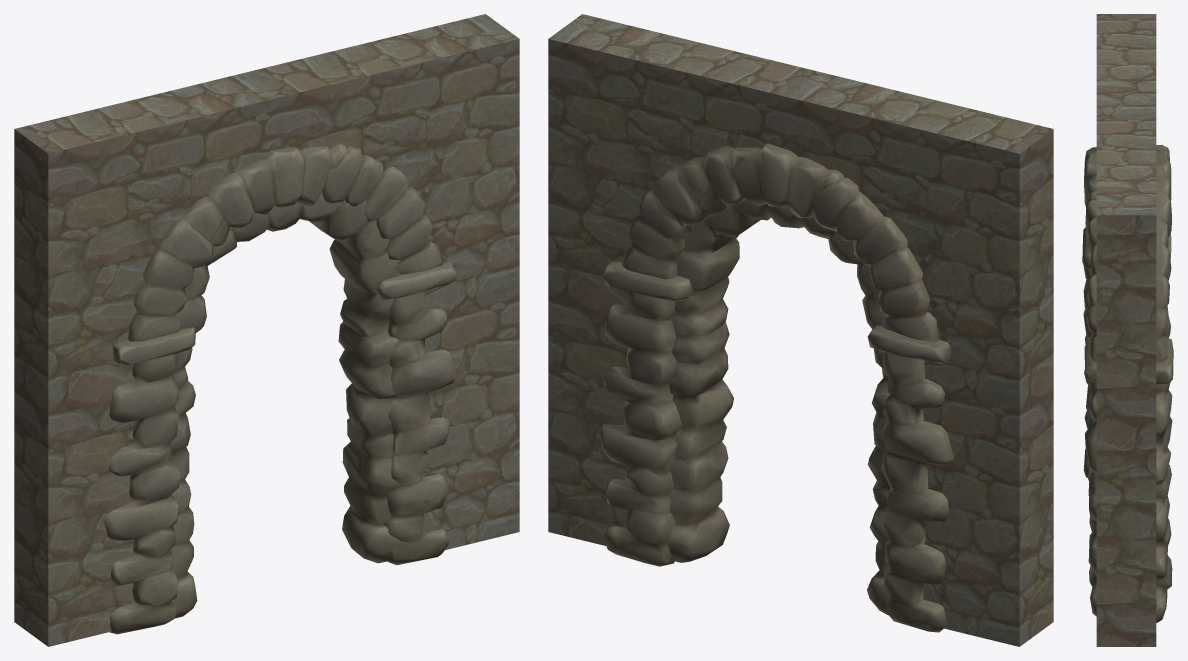
Rendered from SM_FW01_Ruins_Int_Doorway_B_4x4_01.fbx.
3 views of the same model, side by side, from view 1: azimuth 30°, elevation 25°; view 2: azimuth 150°, elevation 25°; view 3: azimuth 270°, elevation 25° (orthographic). The views are drawn at different scales.
Visible parts, largest first — view 1: SM_FW01_Ruins_Int_Doorway_B_4x4_01, SM_FW01_Ruins_Int_Doorway_B_4x4_01_LOD0; view 2: SM_FW01_Ruins_Int_Doorway_B_4x4_01, SM_FW01_Ruins_Int_Doorway_B_4x4_01_LOD0; view 3: SM_FW01_Ruins_Int_Doorway_B_4x4_01, SM_FW01_Ruins_Int_Doorway_B_4x4_01_LOD0.
Part boxes in pixels (x1=…): SM_FW01_Ruins_Int_Doorway_B_4x4_01: x1=14, y1=14, x2=519, y2=646; SM_FW01_Ruins_Int_Doorway_B_4x4_01_LOD0: x1=104, y1=143, x2=456, y2=634; SM_FW01_Ruins_Int_Doorway_B_4x4_01: x1=548, y1=14, x2=1053, y2=646; SM_FW01_Ruins_Int_Doorway_B_4x4_01_LOD0: x1=599, y1=143, x2=953, y2=632; SM_FW01_Ruins_Int_Doorway_B_4x4_01: x1=1096, y1=14, x2=1156, y2=646; SM_FW01_Ruins_Int_Doorway_B_4x4_01_LOD0: x1=1082, y1=145, x2=1173, y2=622.
Size of what is drawn, in the model's own units: 4 by 4.06 by 0.7668.
